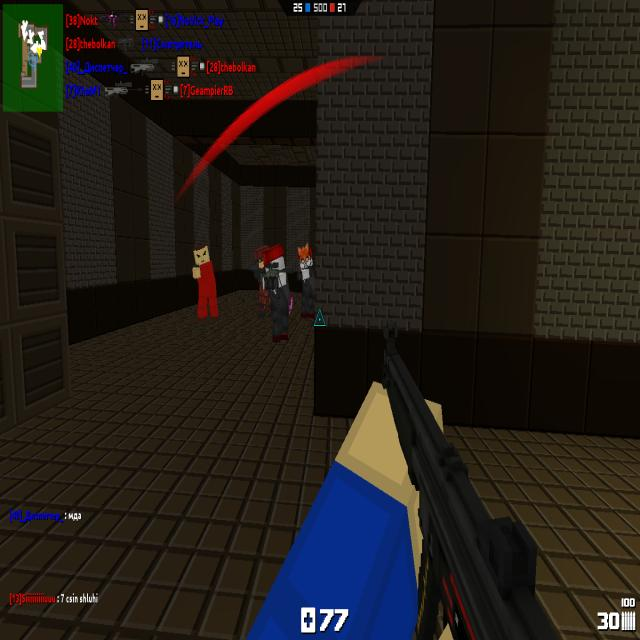enemy: (263, 242, 289, 342), (191, 244, 219, 320), (252, 244, 272, 317), (296, 246, 315, 318)
